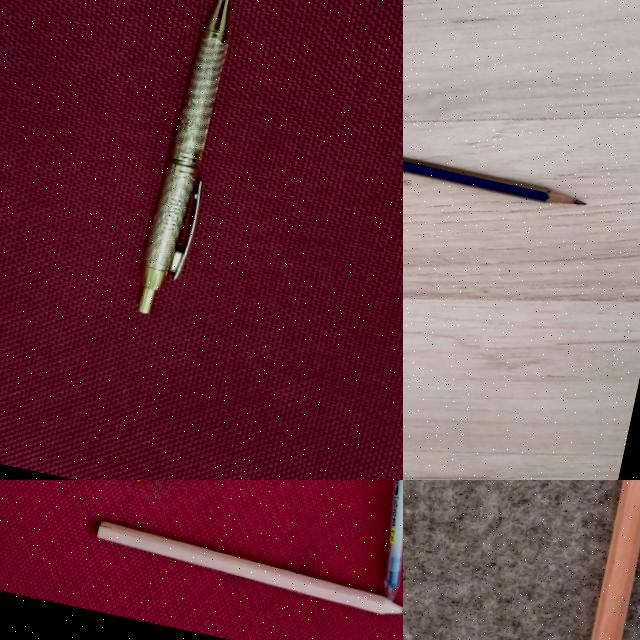pencil: (93, 518, 403, 619), (403, 158, 584, 204), (591, 480, 639, 639)
signature pen: (139, 0, 232, 312)
